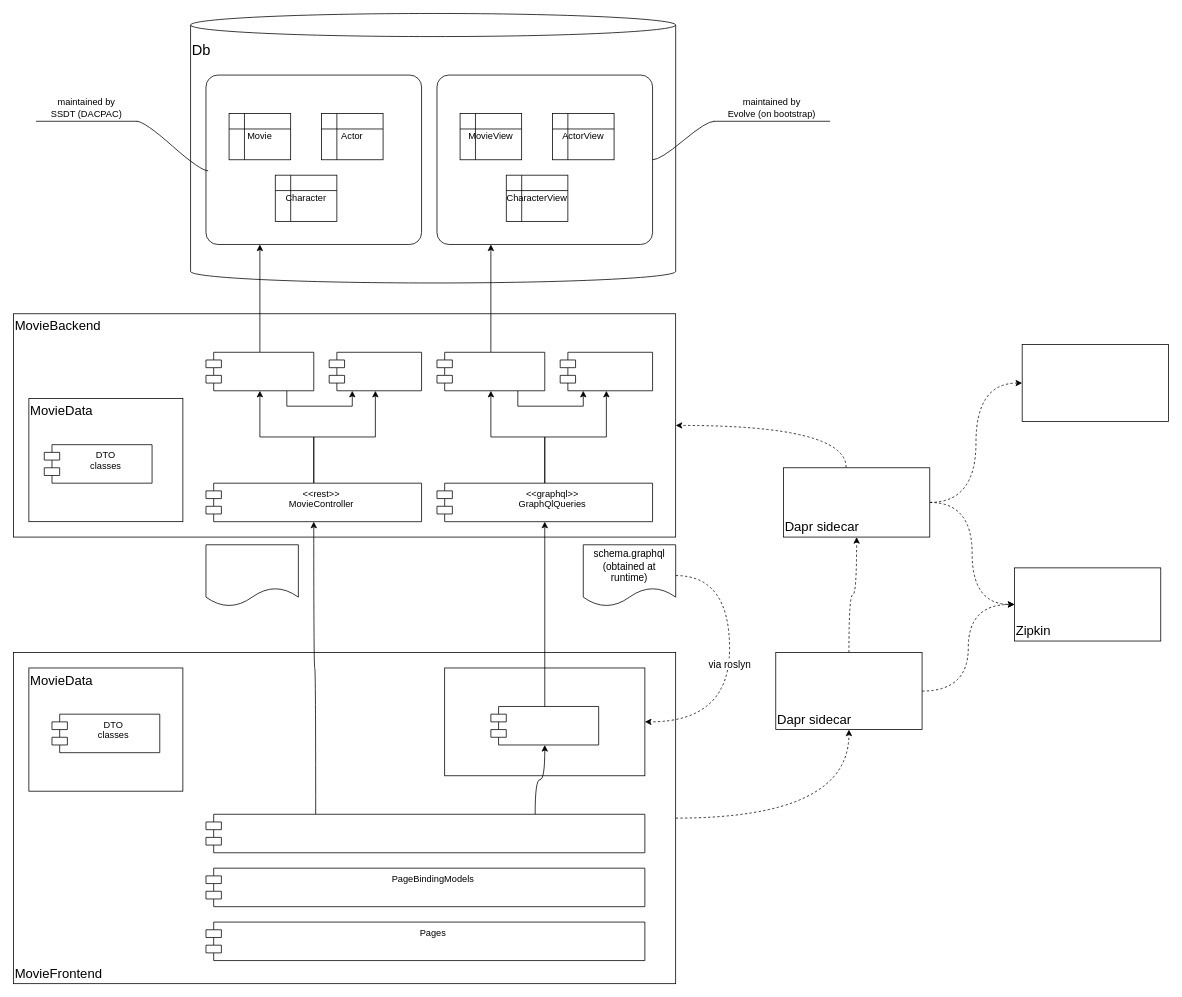
The diagram is 1182 pixels wide and 997 high, and some of its shapes have lost their labels. The box of each missing label's shape, as (x1, y1, x2, y2) in pixels:
Code generated Client classes: (490, 706, 599, 745)
dbo: (205, 74, 422, 244)
Domain Classes: (328, 352, 422, 391)
graphql: (436, 74, 653, 244)
MovieClient: (444, 667, 645, 776)
MovieDbContext: (205, 352, 314, 391)
MovieService: (205, 814, 645, 853)
MovieViewDbContext: (436, 352, 545, 391)
Secret Store: (1021, 344, 1168, 422)
swagger.yml (build-time): (205, 544, 298, 606)
View Classes: (559, 352, 653, 391)
